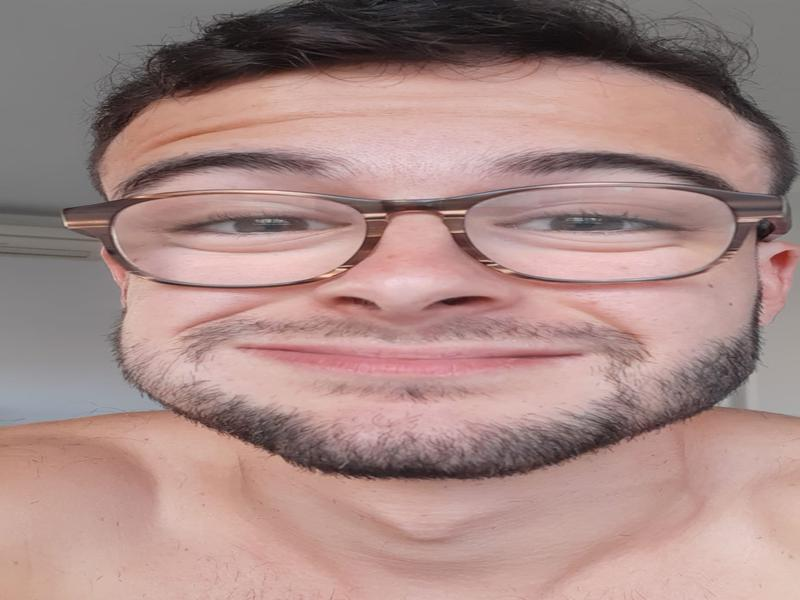NWink: (130, 190, 722, 296)
